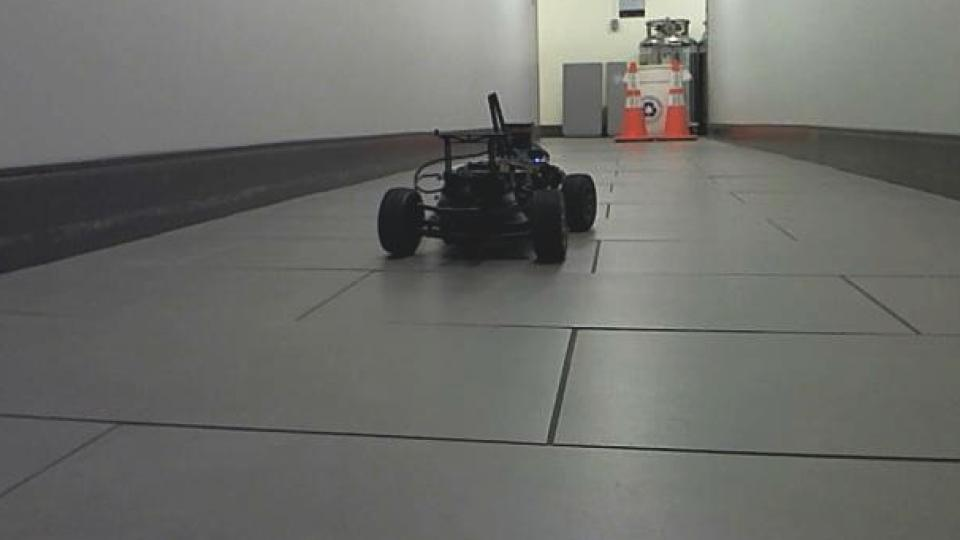car: (375, 89, 602, 268)
